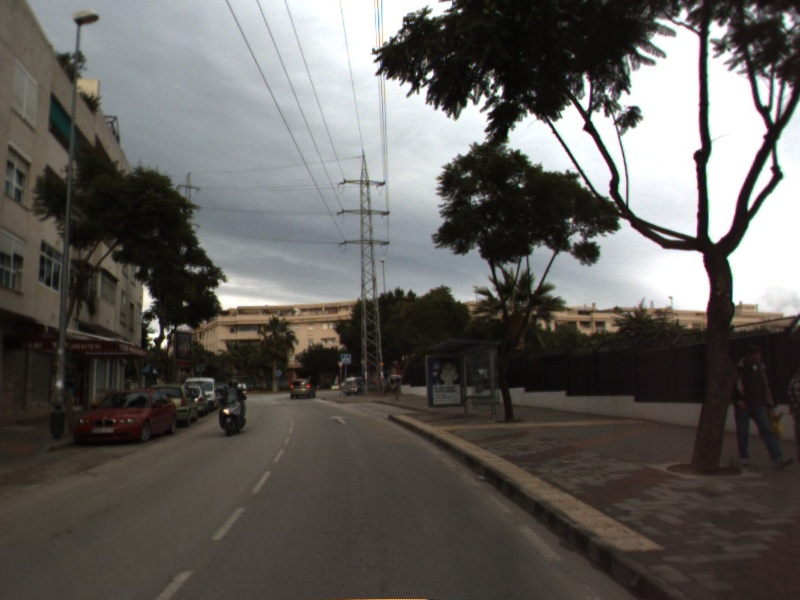STRAIGHT: (327, 412, 349, 426)
